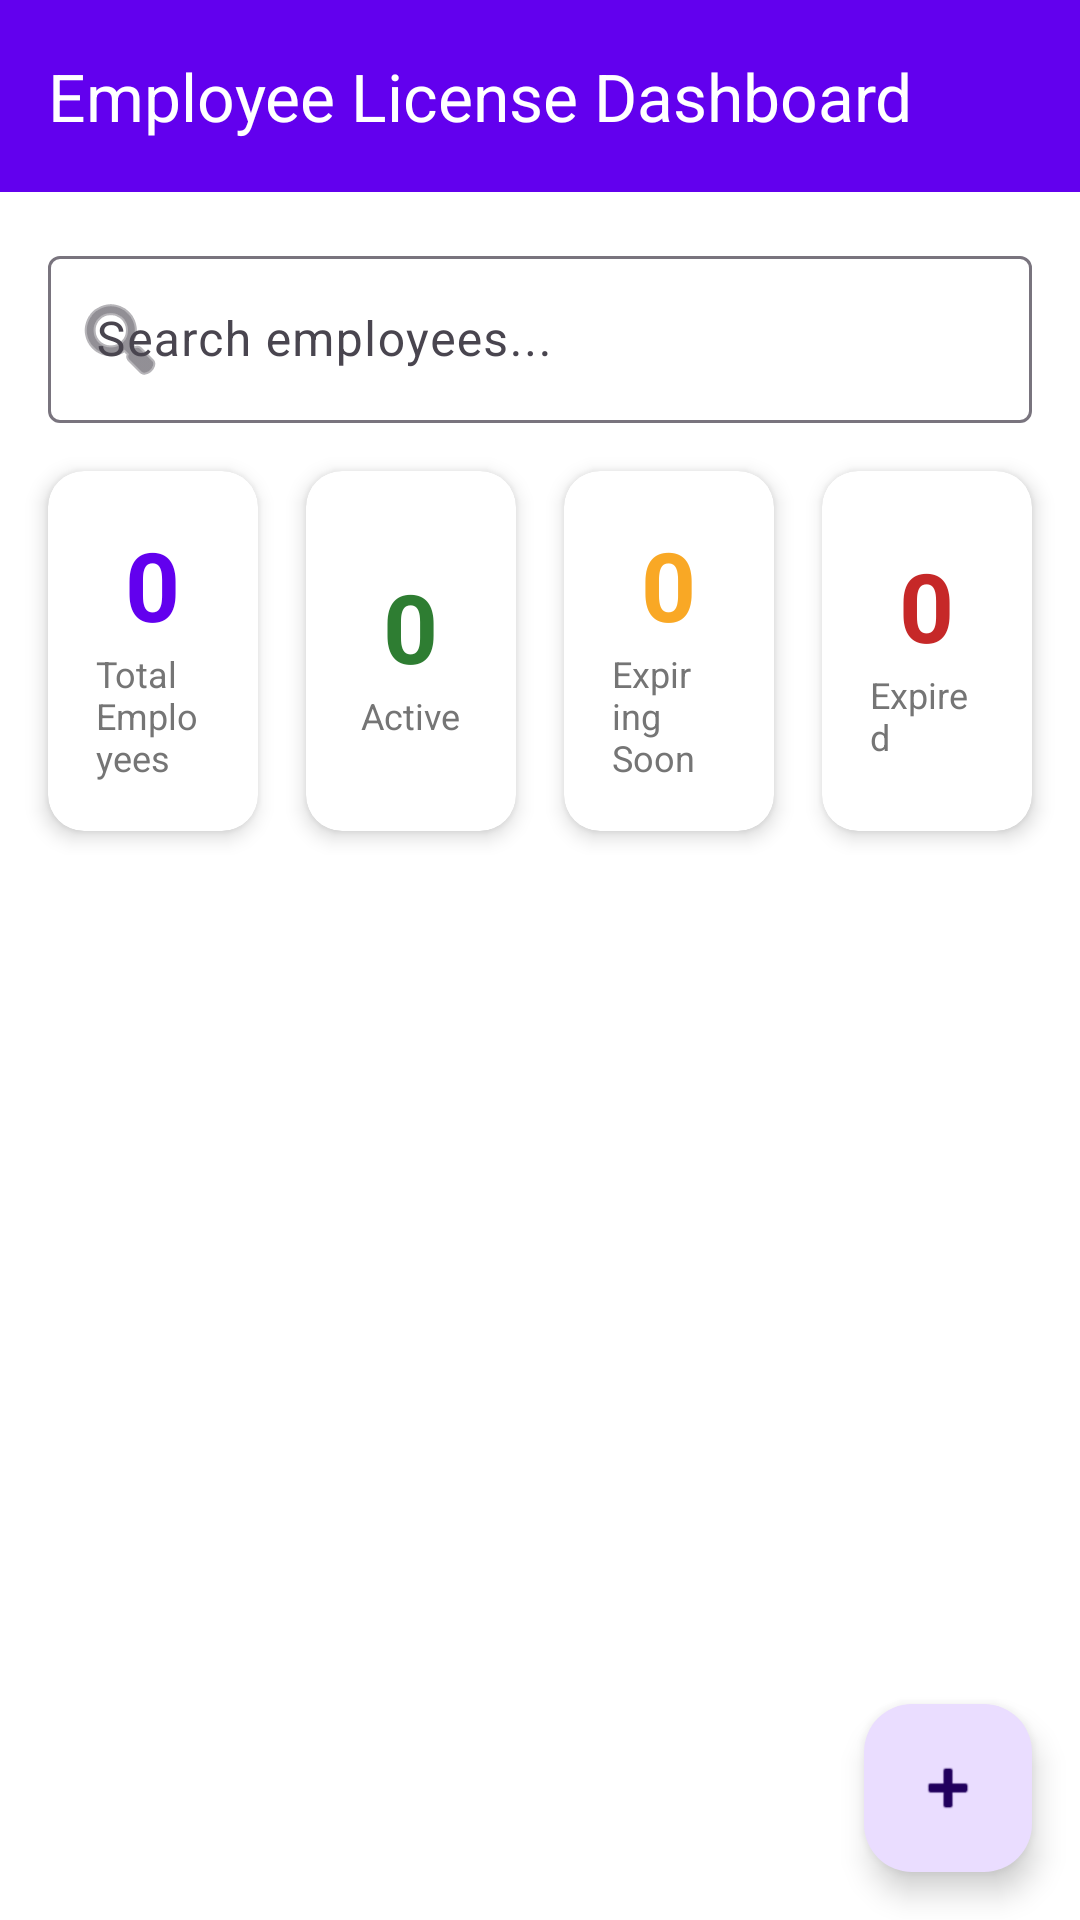

Icon bounding boxes for this 1080w x 1920h phone screenshot, format (x1, y1, x2, y2):
Add Employee: (864, 1704, 1032, 1872)
